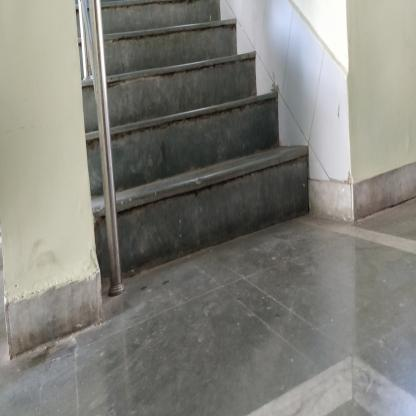stairs: (124, 17, 239, 262)
